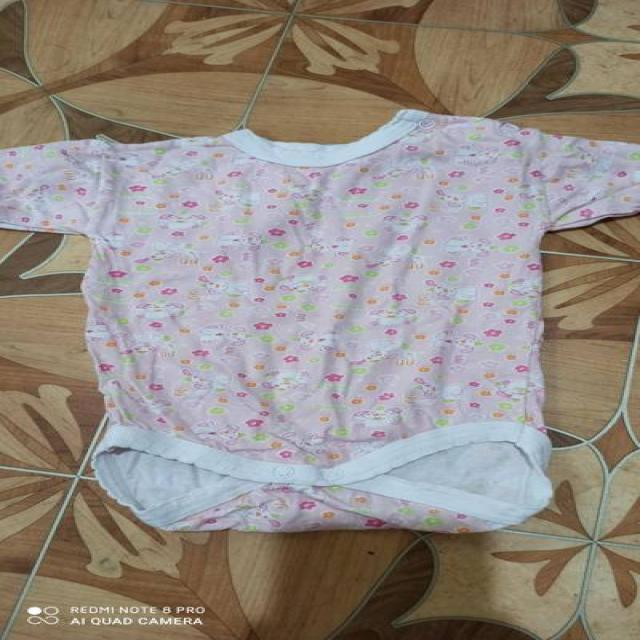Clothes -Biodegradable-: (0, 105, 640, 534)
